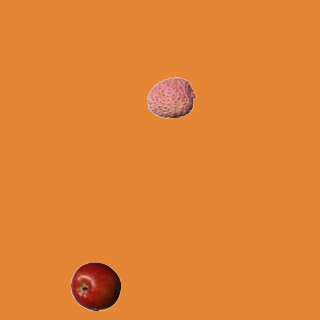Apple Braeburn: (70, 261, 120, 311)
Lychee: (146, 72, 196, 122)
